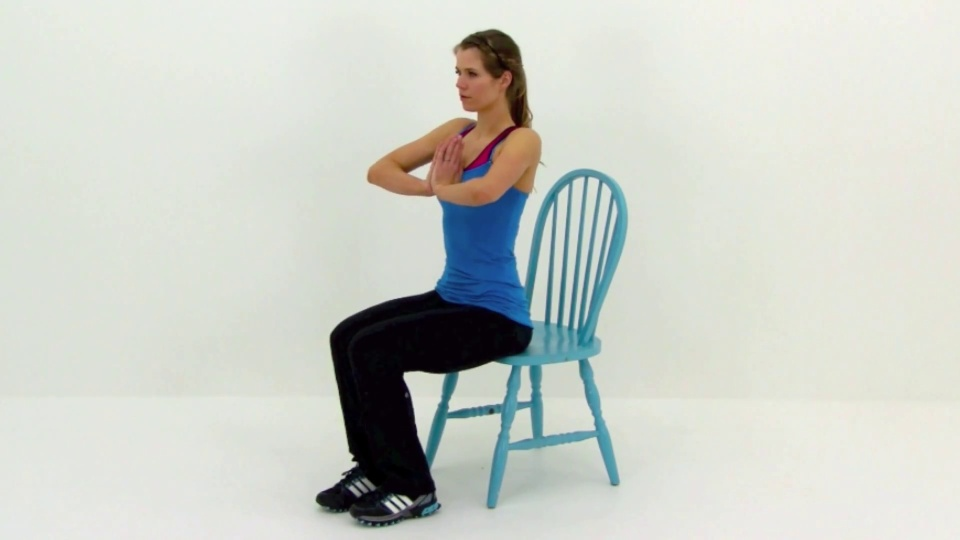person: (305, 20, 545, 530)
